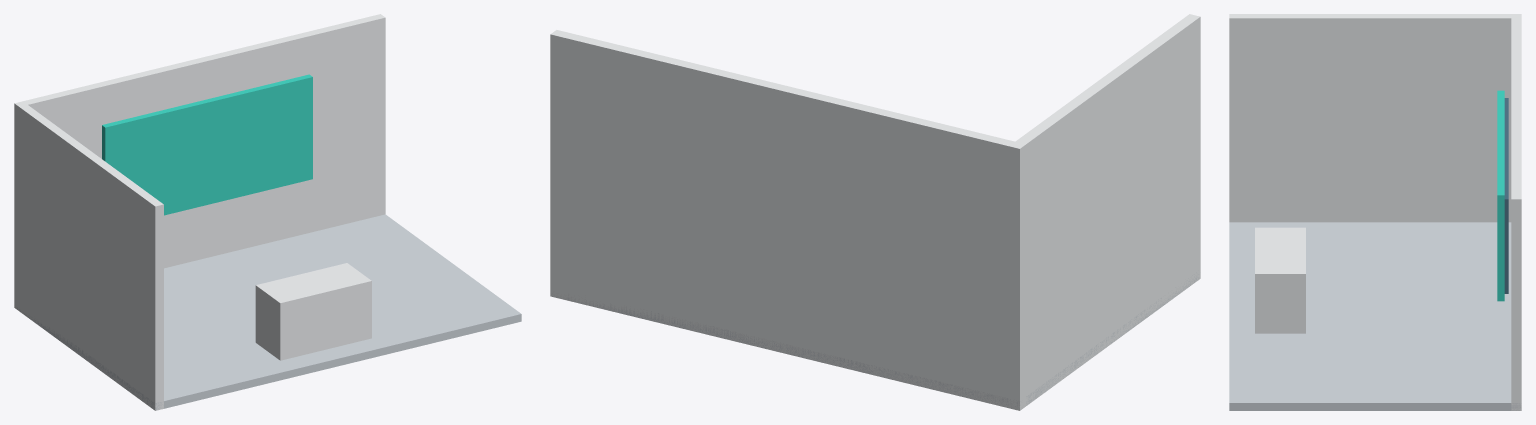
3 views of the same model, side by side, from view 1: azimuth 30°, elevation 25°; view 2: azimuth 150°, elevation 25°; view 3: azimuth 270°, elevation 25° (orthographic). The views are drawn at different scales.
Parts seen in each view (by area): view 1: Exhibition Booth Concept; view 2: Exhibition Booth Concept; view 3: Exhibition Booth Concept.
Part boxes in pixels (<box>): Exhibition Booth Concept: <box>14,14,521,410</box>; Exhibition Booth Concept: <box>550,14,1200,410</box>; Exhibition Booth Concept: <box>1229,14,1521,410</box>.
Size of the model in its own units: 6 by 3.2 by 4.
